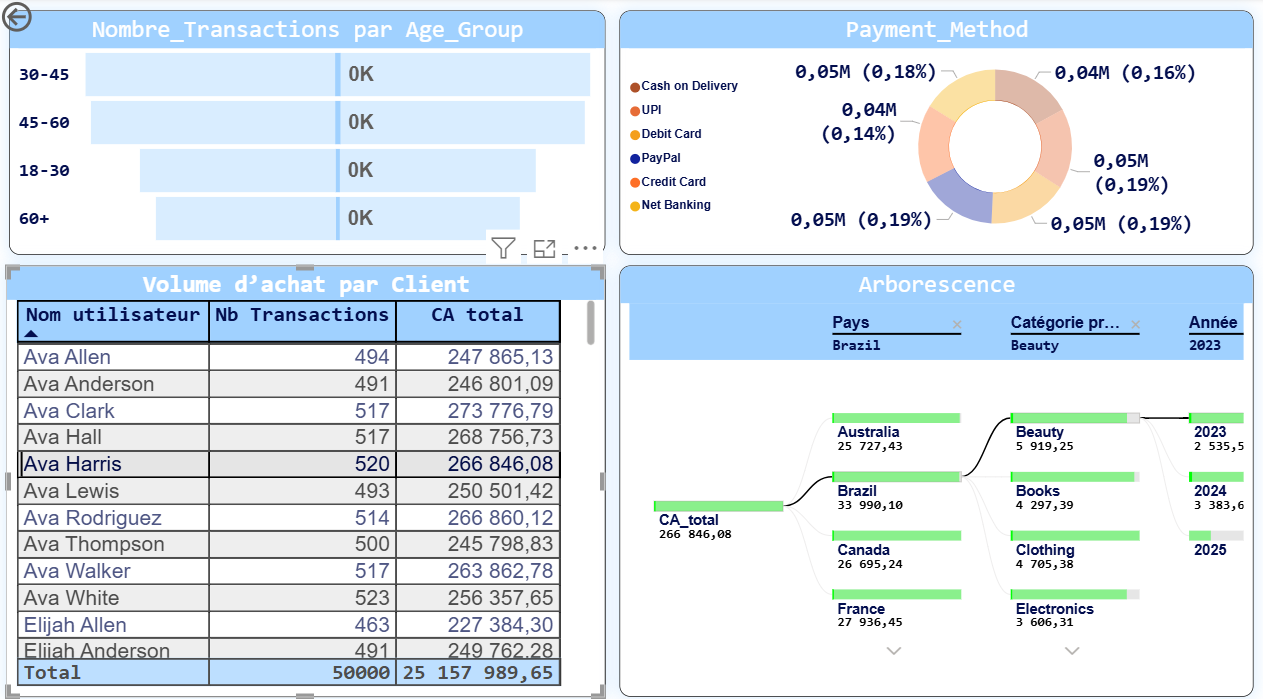

The dashboard page shown, as its layout file describes it:
{"tool":"powerbi","page":{"name":"Page 2","canvas":[1280,720],"ordinal":1},"visuals":[{"type":"funnel","fields":{"Category":["transactions_modifier.Age_Group"],"Y":["transactions_modifier.Nombre_Transactions"]},"box":[11.7,13.3,601.7,246.7],"z":0},{"type":"donutChart","title":" Payment_Method","fields":{"Category":["transactions_modifier.Payment_Method"],"Y":["transactions_modifier.CA_total"]},"box":[628.3,13.3,640,246.7],"z":1000},{"type":"tableEx","title":"Volume d’achat par Client","fields":{"Values":["transactions_modifier.User_Name","transactions_modifier.Nombre_Transactions","transactions_modifier.CA_total"]},"box":[8.3,271.7,605,435],"z":2000},{"type":"actionButton","box":[0,0,100,40],"z":3000},{"type":"decompositionTreeVisual","title":"Arborescence","fields":{"Analyze":["transactions_modifier.CA_total"],"ExplainBy":["transactions_modifier.Country","transactions_modifier.Product_Category","CA_month.Month_year.Variation.Hiérarchie de dates.Année","CA_month.Month_year.Variation.Hiérarchie de dates.Mois"]},"box":[628.3,271.7,640,435],"z":4000}]}

Visuals, with their boxes in screenshot pixels (x1, y1, x2, y2), scaled from the page's 1280x720 canvas onto the 1263x699 screenshot:
funnel - transactions_modifier.Age_Group x transactions_modifier.Nombre_Transactions: <region>12, 13, 605, 252</region>
" Payment_Method" donutChart: <region>620, 13, 1251, 252</region>
"Volume d’achat par Client" tableEx: <region>8, 264, 605, 686</region>
actionButton: <region>0, 0, 99, 39</region>
"Arborescence" decompositionTreeVisual: <region>620, 264, 1251, 686</region>
